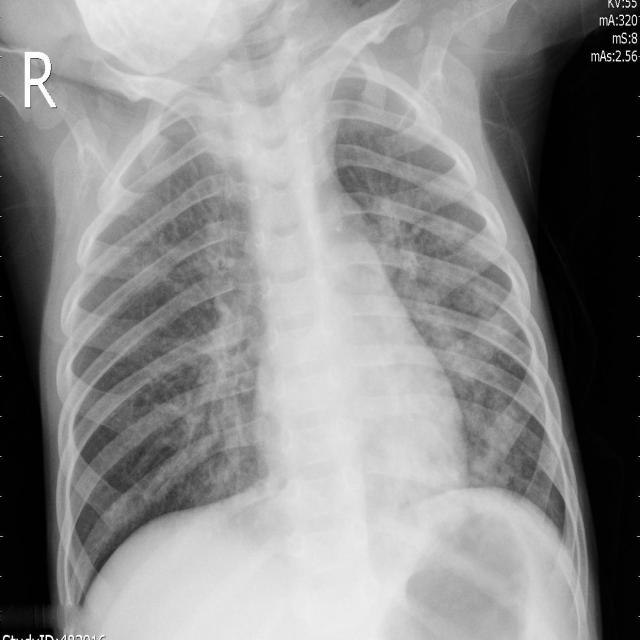low-pneumonia: (366, 204, 494, 386), (184, 219, 269, 485)
